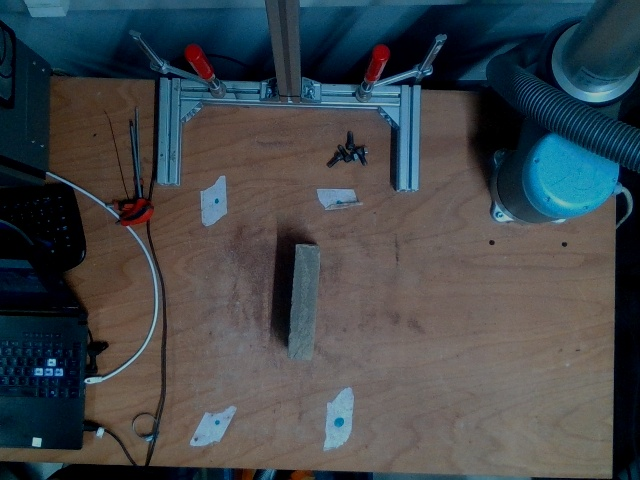brick-side: (286, 246, 320, 359)
